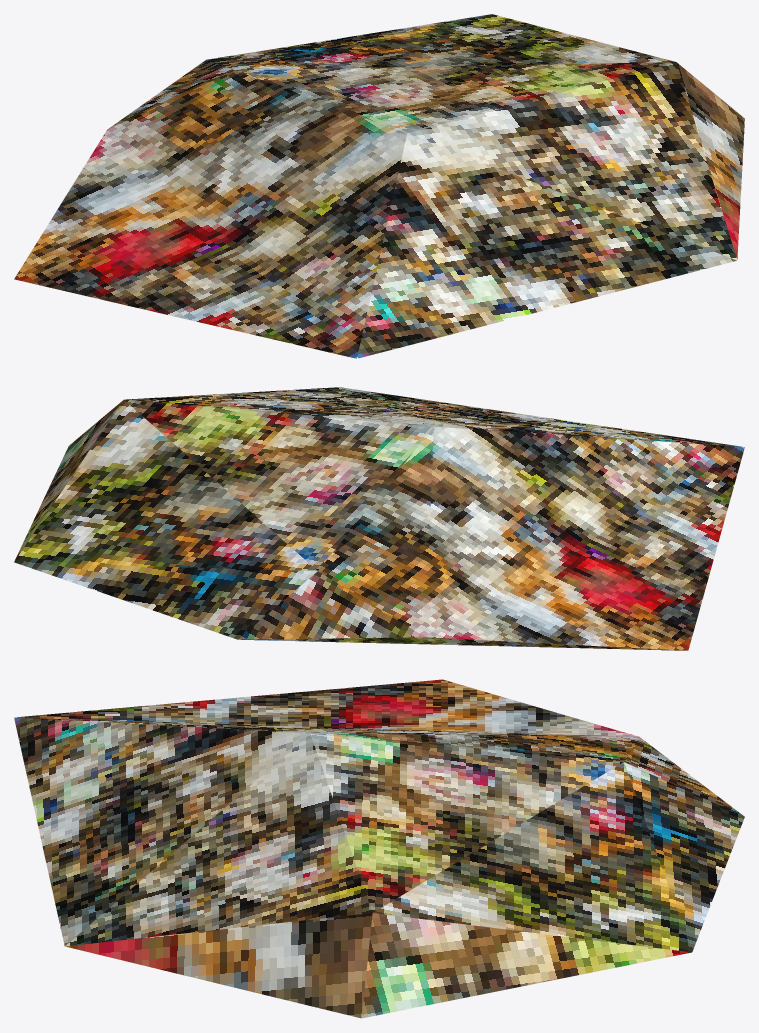
The model's file is trashpile_1.glb.
3 views of the same model, one above another, from view 1: azimuth 30°, elevation 25°; view 2: azimuth 150°, elevation 25°; view 3: azimuth 270°, elevation 25° (orthographic). The views are drawn at different scales.
Visible parts, largest first — view 1: trashpile_1; view 2: trashpile_1; view 3: trashpile_1.
Boxes of the visible parts, x1,y1,x2,y2 form: trashpile_1: [14, 14, 744, 358]; trashpile_1: [14, 387, 744, 650]; trashpile_1: [14, 679, 744, 1018].
Bounding box in the file's own units: 0.6047 × 0.0922 × 0.5191.
1 material, 1 textured.
